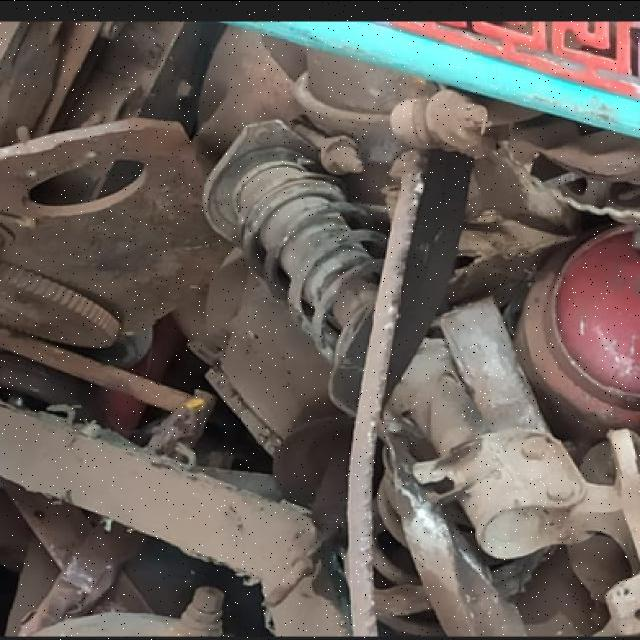shock absorber: (204, 116, 595, 558)
